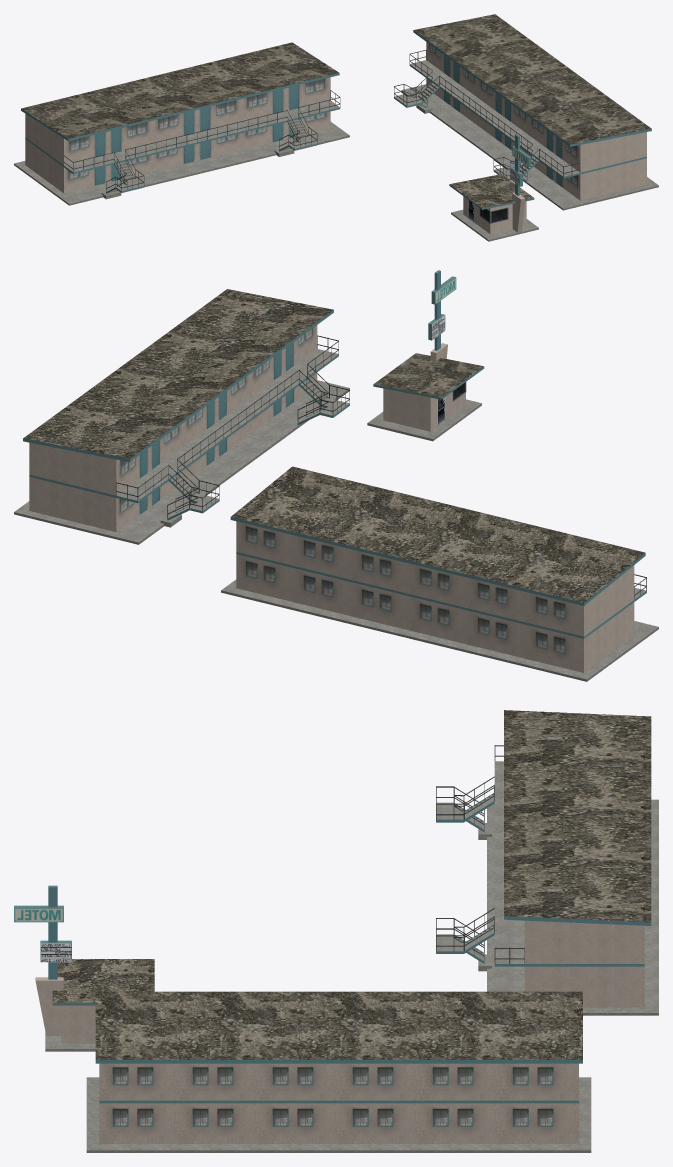
Rendered from des_nmot_.obj.
The picture shows the model from 3 angles, top to bottom: view 1: azimuth 30°, elevation 25°; view 2: azimuth 150°, elevation 25°; view 3: azimuth 270°, elevation 25°; orthographic projection. The views are drawn at different scales.
Parts seen in each view (by area): view 1: des_nmot_; view 2: des_nmot_; view 3: des_nmot_.
Part boxes in pixels (left/top/right/bottom): des_nmot_: left=14, top=14, right=658, bottom=241; des_nmot_: left=14, top=270, right=658, bottom=681; des_nmot_: left=14, top=710, right=658, bottom=1152.
Bounding box in the file's own units: 41.49 × 8.32 × 32.27.
Materials: 12 (12 with a texture image).
